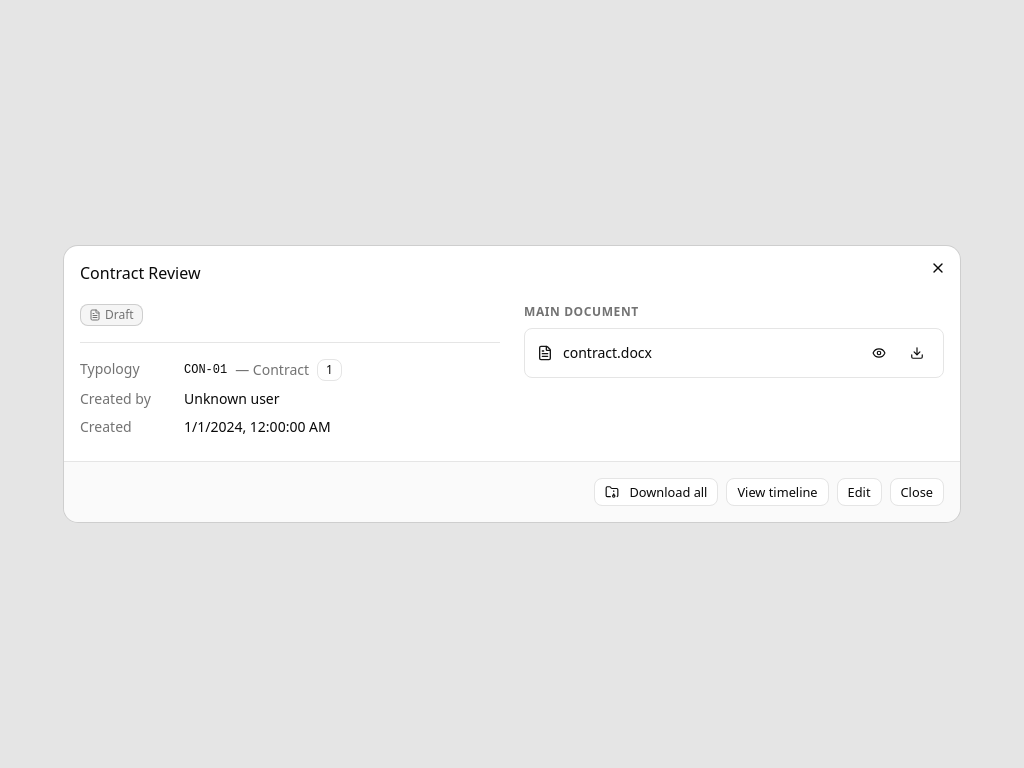
Test: DetailWorkflowDialog — main document preview › renders a DOCX main document client-side via docx-preview, fetching bytes through our own API, in a large popup
Click the button named "Preview document". click: (879, 353)
box: [865, 339, 893, 367]
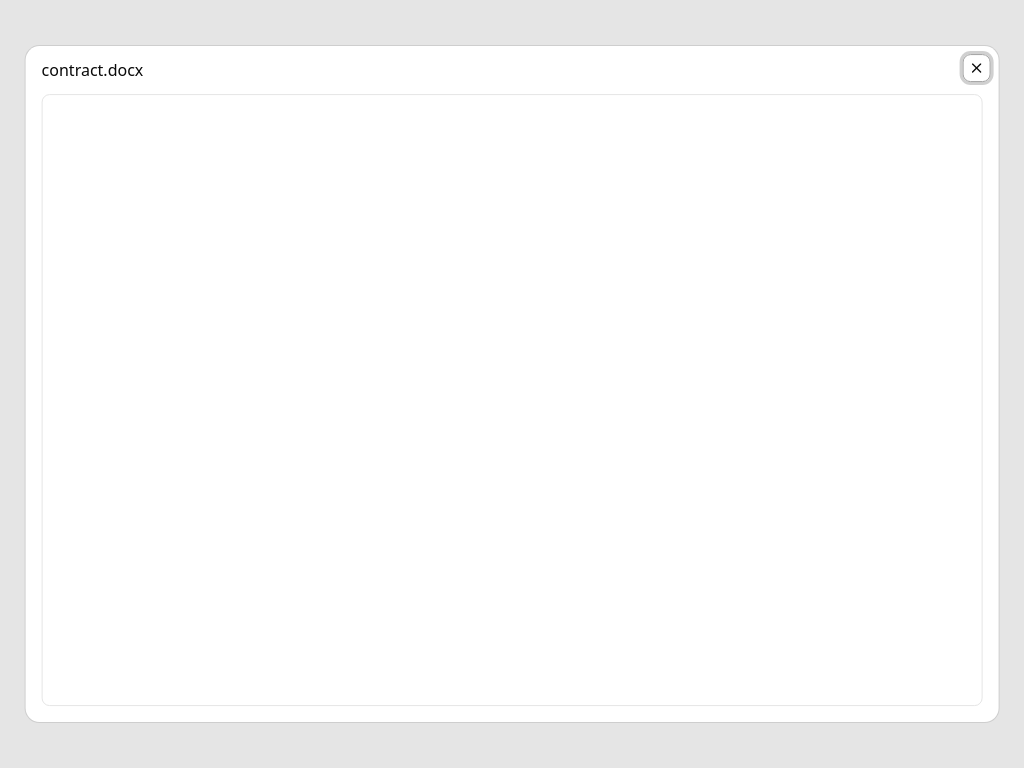
Check: the element named "Preview of contract.docx" is shown
